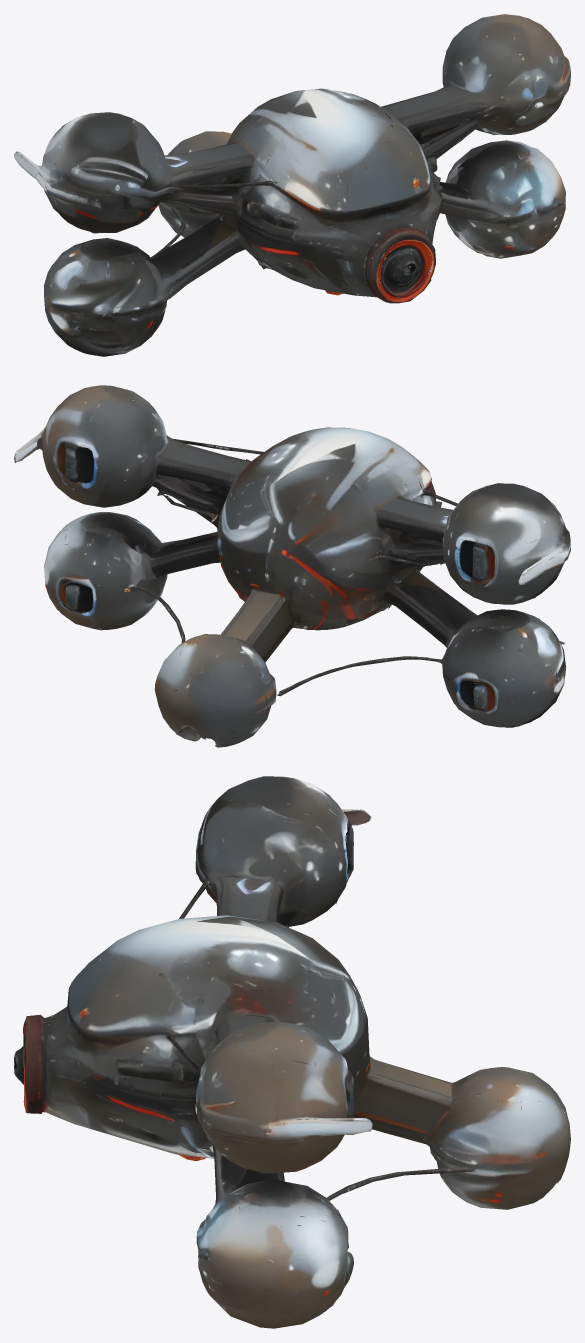
File: enemy.glb
3 renders of one model, top to bottom at view 1: azimuth 30°, elevation 25°; view 2: azimuth 150°, elevation 25°; view 3: azimuth 270°, elevation 25°, orthographic. The views are drawn at different scales.
Parts seen in each view (by area): view 1: model; view 2: model; view 3: model.
Part boxes in pixels (x1,y1,x2,y2): model: [14, 14, 570, 356]; model: [14, 385, 570, 747]; model: [14, 776, 570, 1328].
Bounding box in the file's own units: 1.91 × 0.8118 × 1.41.
1 material, 1 textured.
